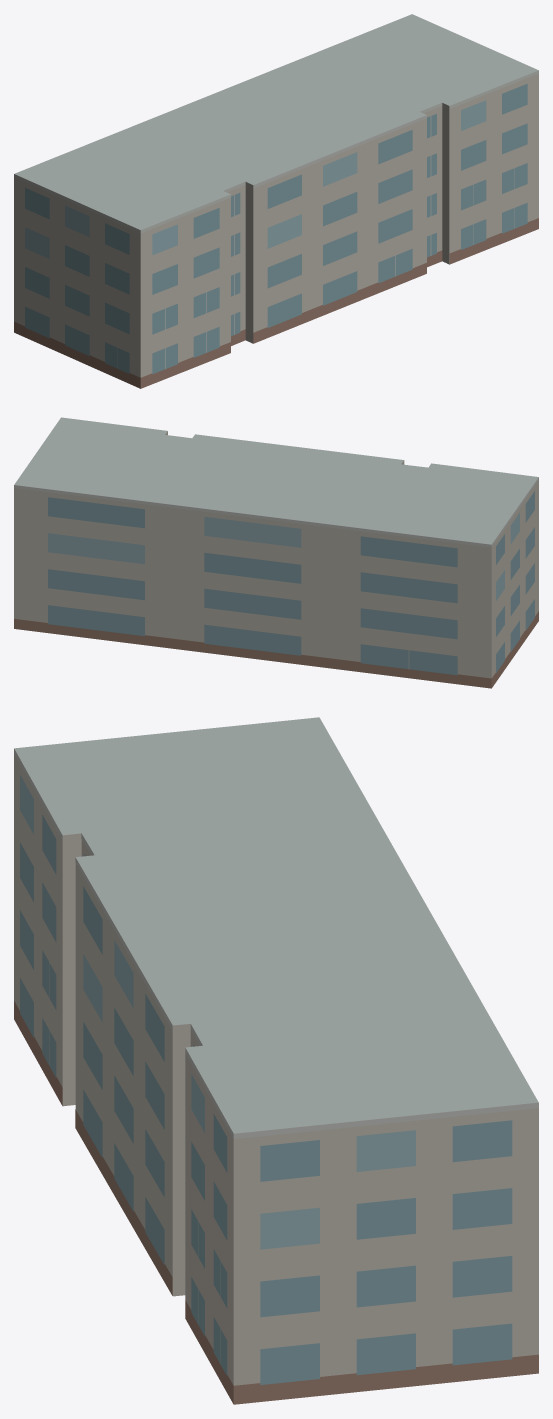
The model's file is survey-upis-32834661.glb.
3 views of the same model, one above another, from view 1: azimuth 30°, elevation 25°; view 2: azimuth 150°, elevation 25°; view 3: azimuth 270°, elevation 25° (orthographic). The views are drawn at different scales.
Visible parts, largest first — view 1: survey-upis-32834661.tmp; view 2: survey-upis-32834661.tmp; view 3: survey-upis-32834661.tmp.
Part boxes in pixels (left/top/right/bottom): survey-upis-32834661.tmp: left=14, top=14, right=538, bottom=388; survey-upis-32834661.tmp: left=14, top=417, right=538, bottom=688; survey-upis-32834661.tmp: left=14, top=717, right=538, bottom=1404.
Bounding box in the file's own units: 39.9 × 12.1 × 21.25.
